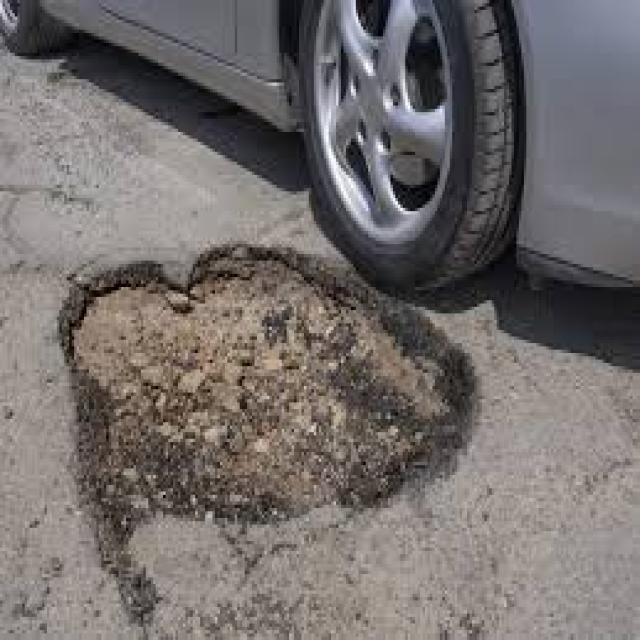Pothole: (54, 244, 479, 617)
